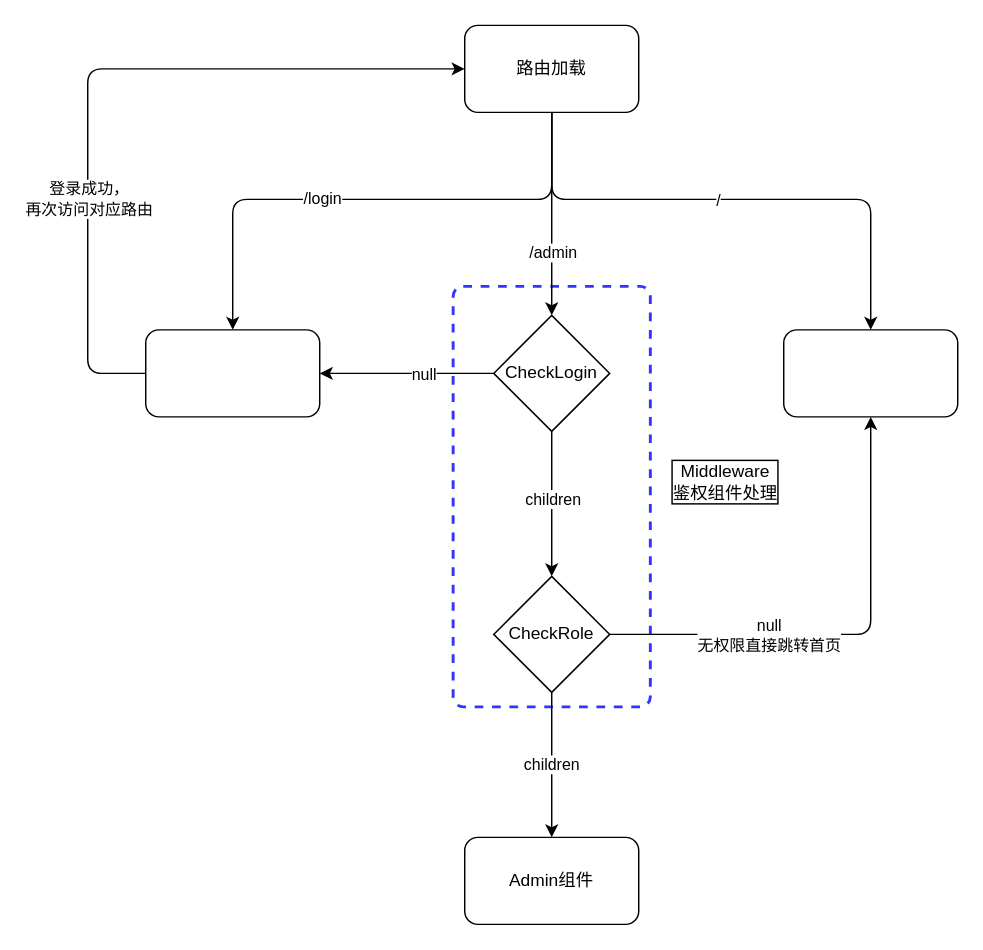
The diagram is 983 pixels wide and 950 high, and some of its shapes have lost their labels. Each missing label, with the centre of its shape:
Home组件: [870,372]
Login组件: [232,372]
